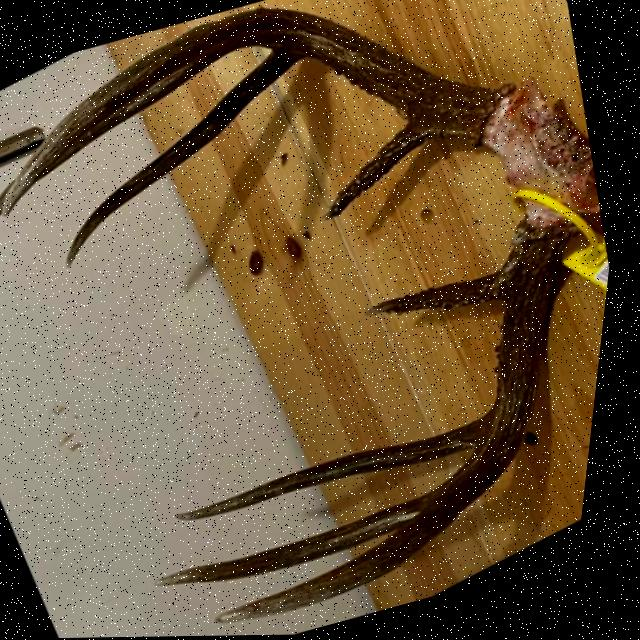L-F: (5, 5, 517, 218)
L-G1: (325, 114, 445, 223)
L-G2: (69, 49, 309, 269)
R-F: (228, 221, 587, 625)
R-G1: (371, 265, 510, 318)
R-G2: (184, 407, 501, 522)
R-G3: (165, 484, 454, 588)
